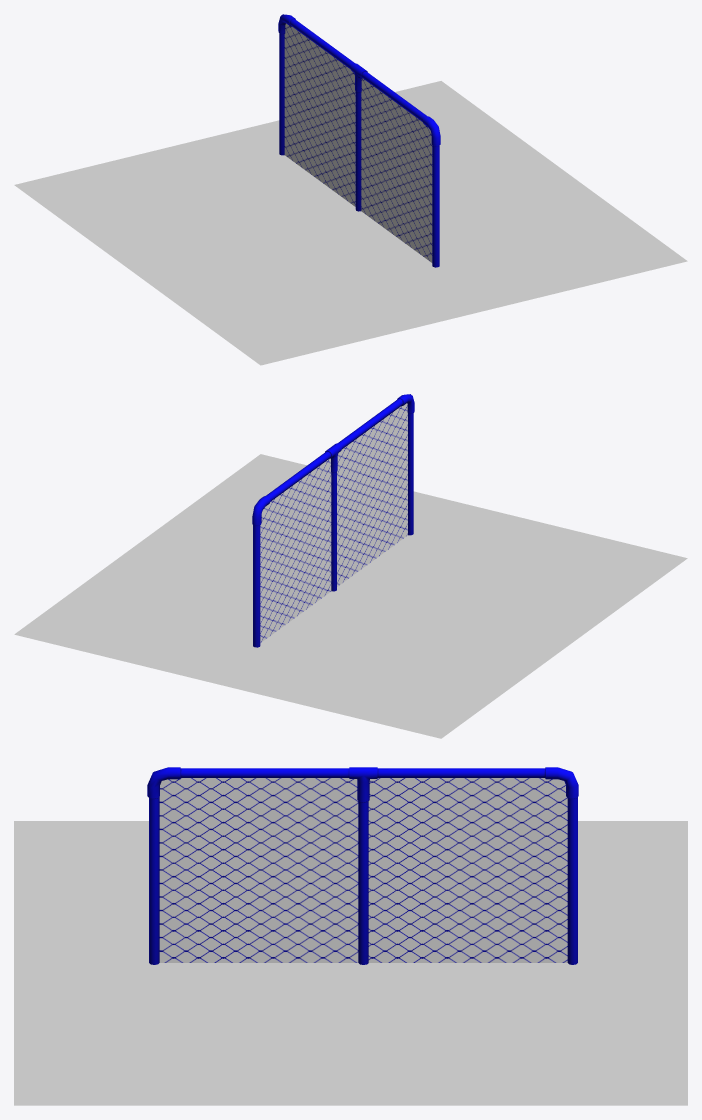
Rendered from cerca.fbx.
3 renders of one model, top to bottom at view 1: azimuth 30°, elevation 25°; view 2: azimuth 150°, elevation 25°; view 3: azimuth 270°, elevation 25°, orthographic. The views are drawn at different scales.
Parts seen in each view (by area): view 1: Plane, fencewire, fence; view 2: Plane, fencewire, fence; view 3: Plane, fencewire, fence.
Boxes of the visible parts, bbox=[...] form: Plane: bbox=[14, 81, 687, 365]; fencewire: bbox=[284, 23, 432, 262]; fence: bbox=[278, 14, 440, 267]; Plane: bbox=[14, 454, 687, 738]; fencewire: bbox=[260, 403, 407, 642]; fence: bbox=[252, 394, 414, 647]; Plane: bbox=[14, 821, 687, 1105]; fencewire: bbox=[159, 778, 567, 962]; fence: bbox=[147, 767, 578, 964].
Bounding box in the file's own units: 1288 × 431 × 1288.
